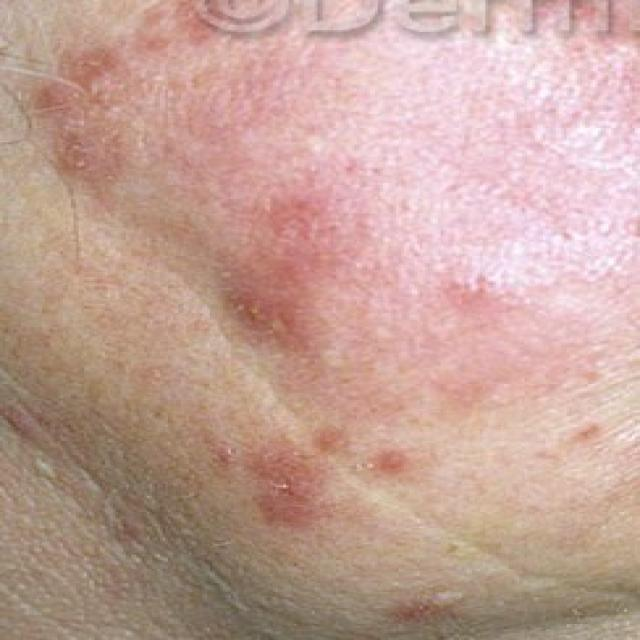Rosacea: (209, 171, 367, 347)
